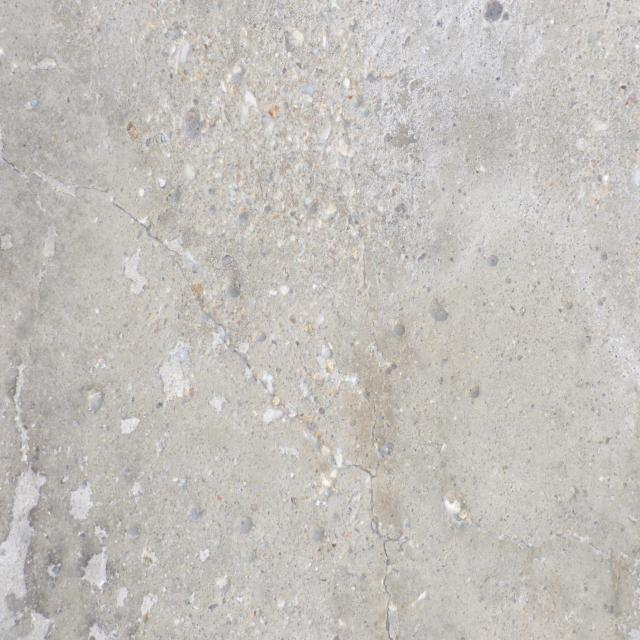concrete spalling: (442, 490, 471, 530)
diagonal crack: (0, 148, 400, 639)
horizontal crack: (471, 516, 640, 562), (431, 531, 457, 559)
